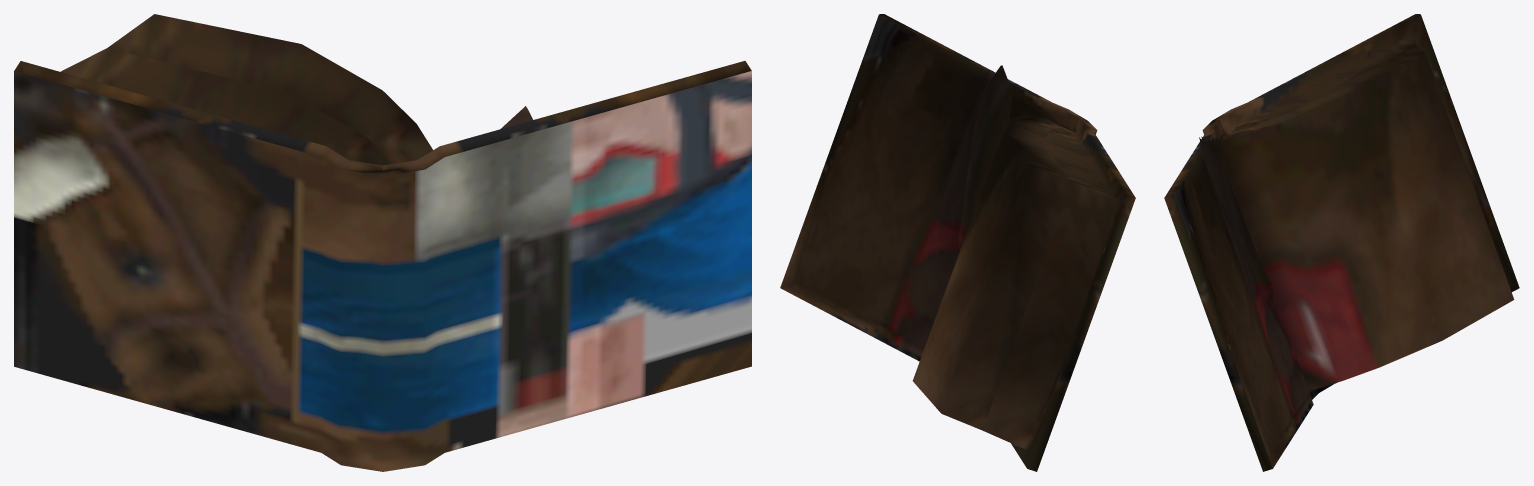
Rendered from del.ico.obj.
3 views of the same model, side by side, from view 1: azimuth 30°, elevation 25°; view 2: azimuth 150°, elevation 25°; view 3: azimuth 270°, elevation 25° (orthographic). The views are drawn at different scales.
Bounding box in the file's own units: 4.65 × 3.06 × 3.35.
